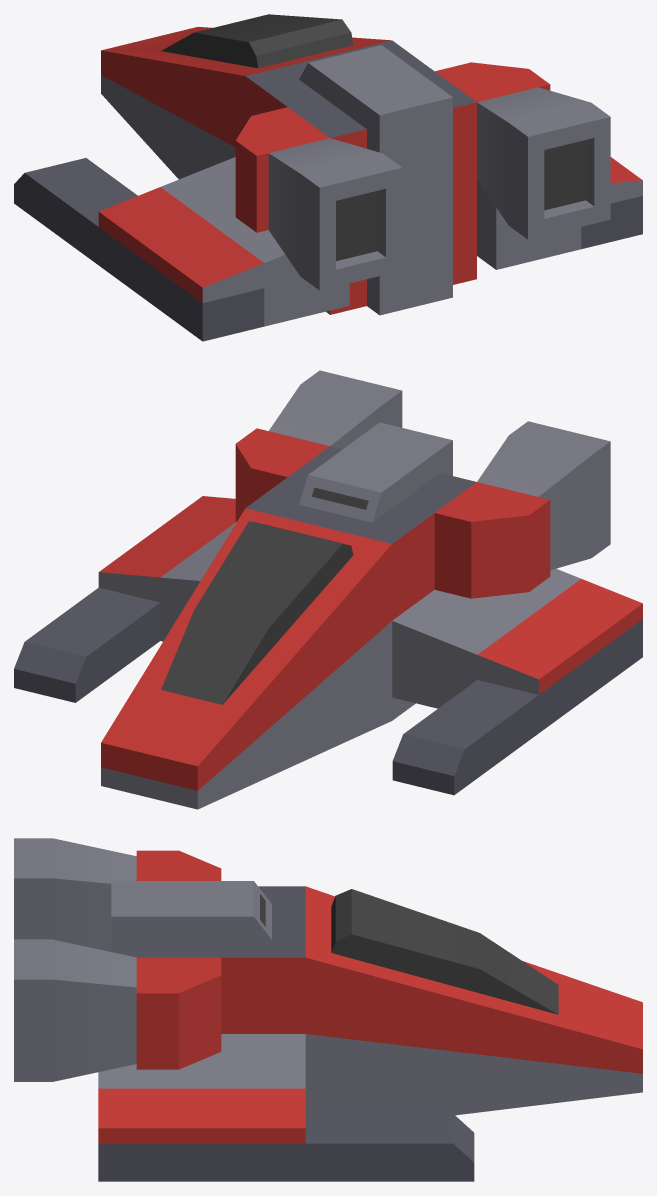
File: fighter.glb
3 renders of one model, top to bottom at view 1: azimuth 30°, elevation 25°; view 2: azimuth 150°, elevation 25°; view 3: azimuth 270°, elevation 25°, orthographic.
Parts seen in each view (by area): view 1: fighter; view 2: fighter; view 3: fighter.
Part boxes in pixels (x1,y1,x2,y2): fighter: (14, 14, 642, 341); fighter: (14, 370, 642, 809); fighter: (14, 838, 642, 1181).
Size of the model in its own units: 2 by 0.8692 by 2.49.
